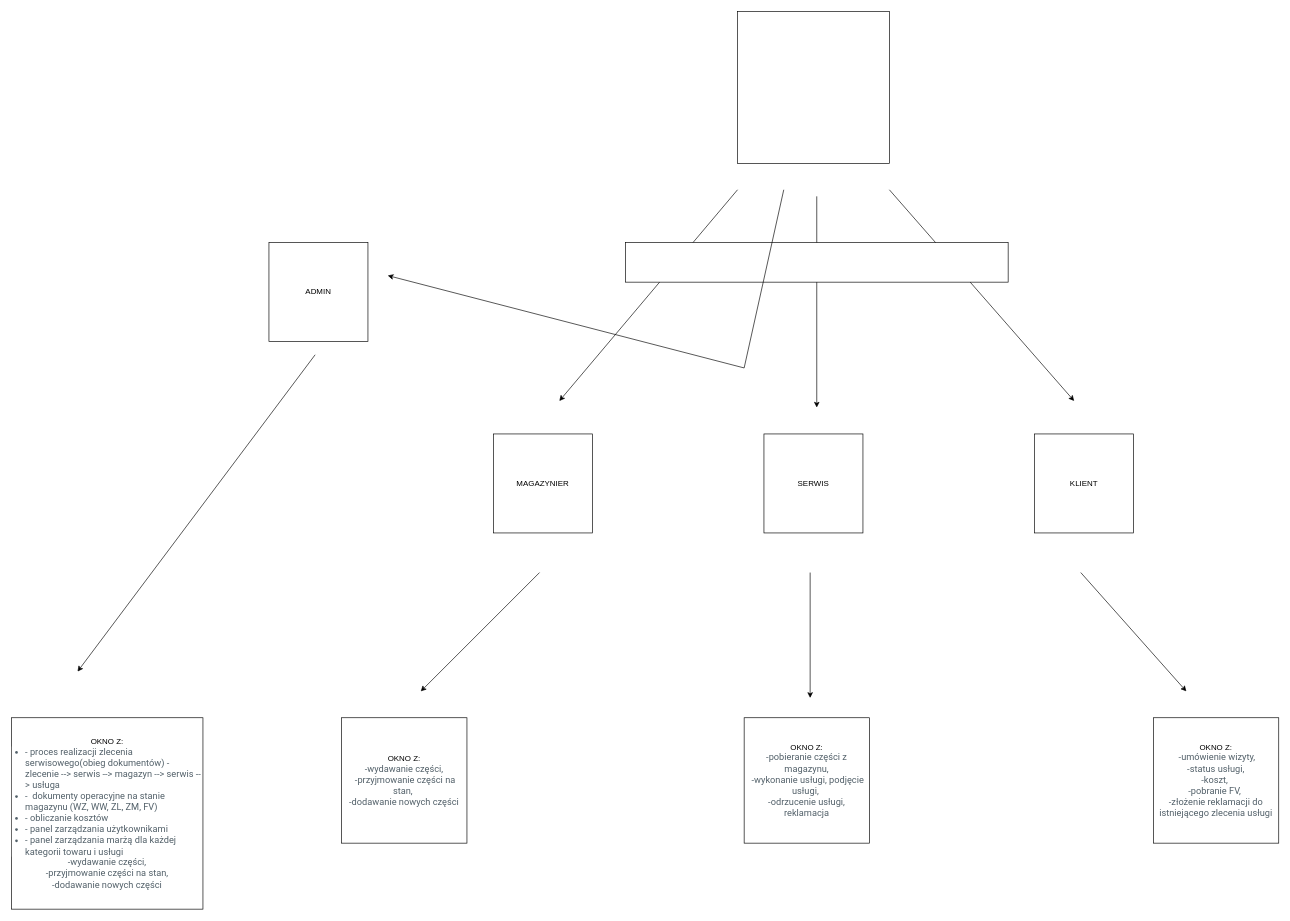
Some shapes in this 1290 by 921 pixel diagram are drawn without their labels. Each missing label, with the centre of its shape:
LOGOWANIE JAKO:: point 816,262
OKNO Z LOGOWANIEM: point 813,87
